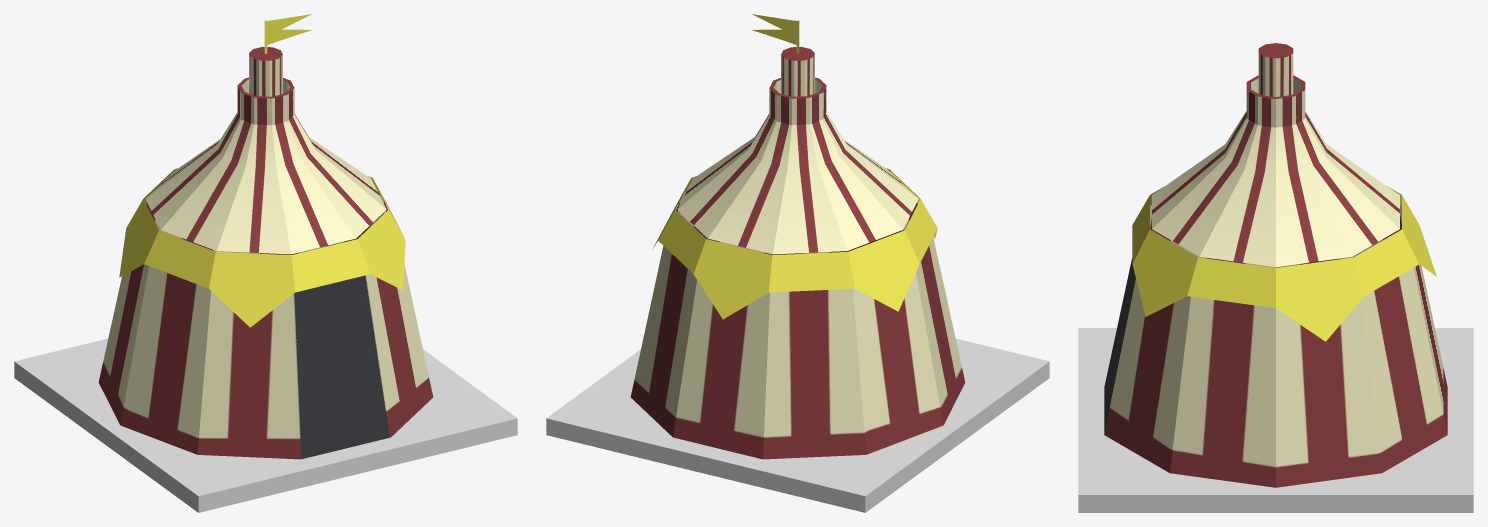
The model's file is Circus03_1.FBX.
3 views of the same model, side by side, from view 1: azimuth 30°, elevation 25°; view 2: azimuth 150°, elevation 25°; view 3: azimuth 270°, elevation 25° (orthographic). The views are drawn at different scales.
Parts seen in each view (by area): view 1: Plane001, Box001; view 2: Plane001, Box001; view 3: Plane001, Box001.
Part boxes in pixels (x1=…): Plane001: x1=98, y1=14, x2=433, y2=459; Box001: x1=14, y1=338, x2=517, y2=512; Plane001: x1=630, y1=14, x2=965, y2=459; Box001: x1=546, y1=338, x2=1049, y2=512; Plane001: x1=1104, y1=43, x2=1447, y2=487; Box001: x1=1078, y1=328, x2=1473, y2=512.
Bounding box in the file's own units: 1 × 1.16 × 1.
Materials: 3 (3 with a texture image).
